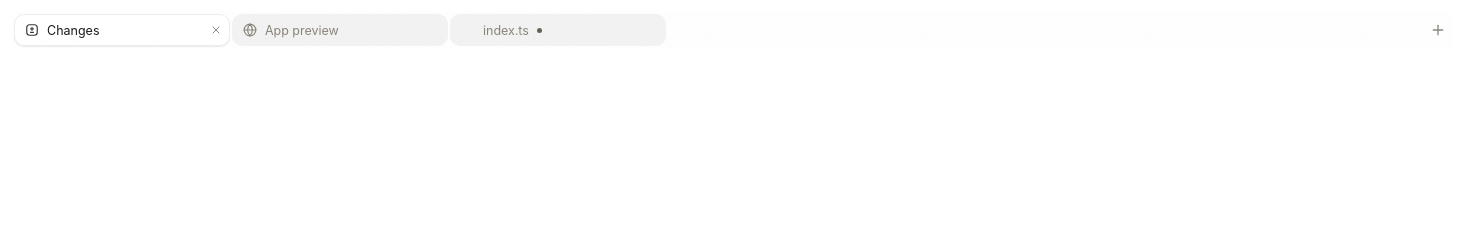
Test case: ReviewTabsBar › opens only available tools and the optional artifacts shortcut
Click the button named "New workspace tab" at (1438, 30), box x1=1424 y1=16 x2=1452 y2=44
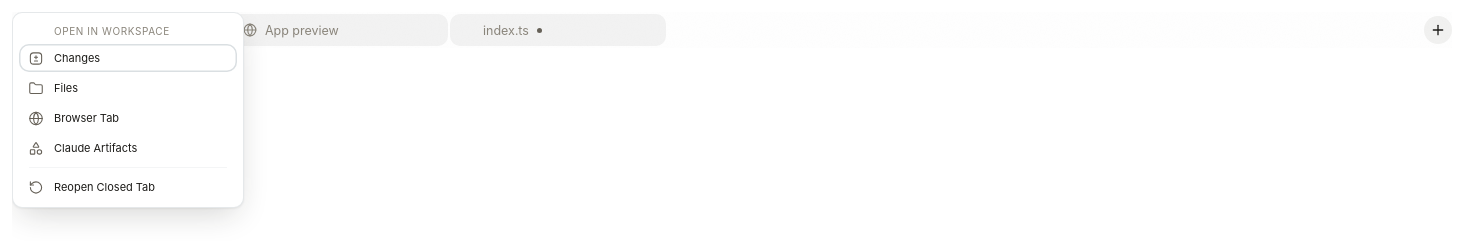
Click the menu item "Claude Artifacts" at (128, 148), box x1=19 y1=134 x2=237 y2=162
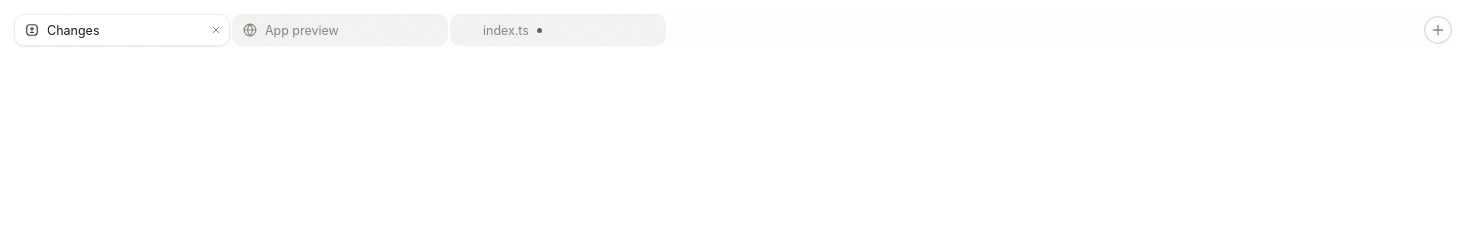
Expected: the menu is gone
